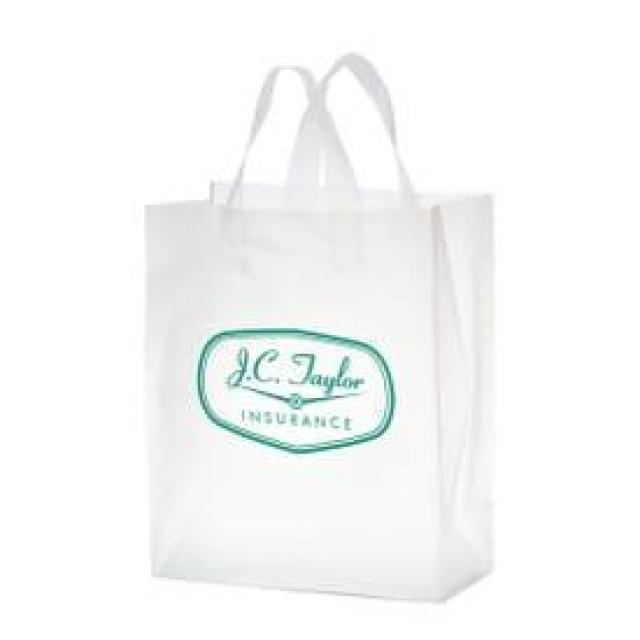plastic_bag: (137, 49, 510, 605)
